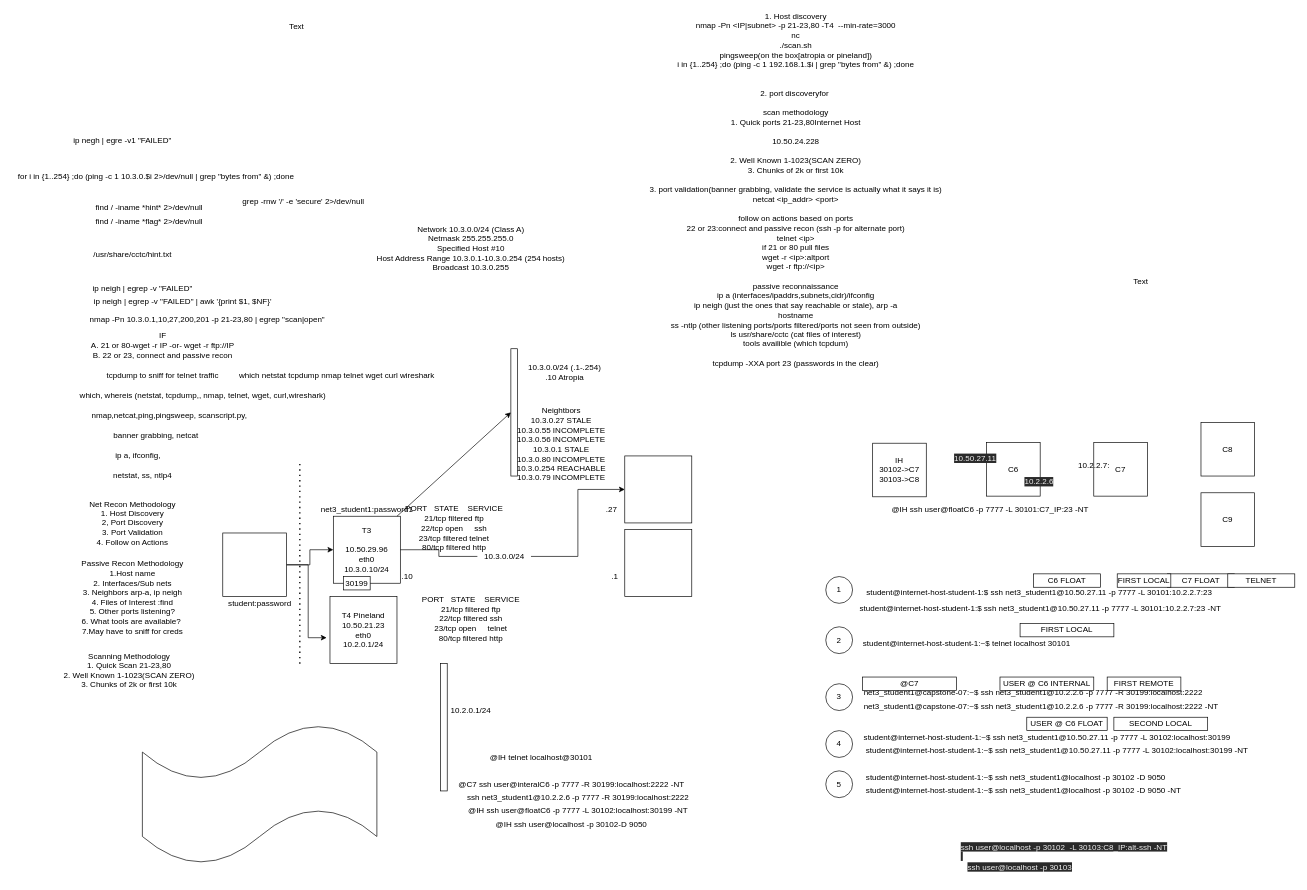
Image size: 1307x890. Some labels were removed from this diagram. The shapes that lost their labels are listed below. From the top down, each one's centre as x and y in pixels, then its label:
At point 658,489: "Victoria 21,80".
At point 254,564: "IH 10.10.0.63 Tunnel ports 30101-> 30102-> 30103-> 30104->".
At point 658,563: "cortina 21,80".
At point 259,794: "nmap, netcat, scan script nmpa -P -n".
